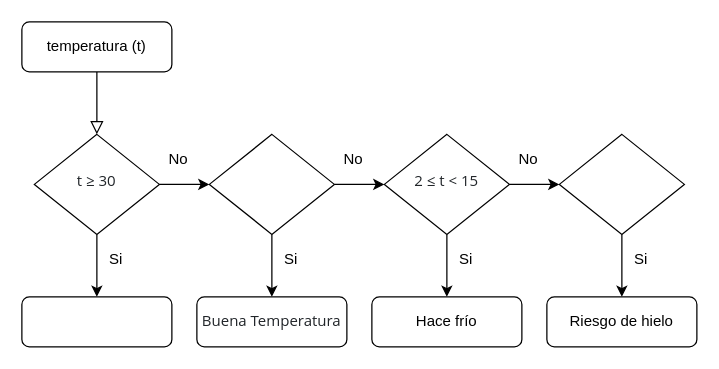
Some shapes in this 719 by 369 pixel diagram are drawn without their labels. The shapes that lost their labels are listed below. From the top down, each one's box as (x1, y1, x2, y2) in pixels, then its label:
(208, 133, 334, 234): 15 ≤ t < 30
(558, 133, 684, 234): t < 2
(21, 296, 172, 347): Demasiado calor
